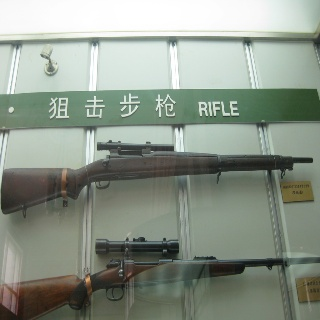rifle: (1, 235, 320, 320), (1, 137, 316, 218)
